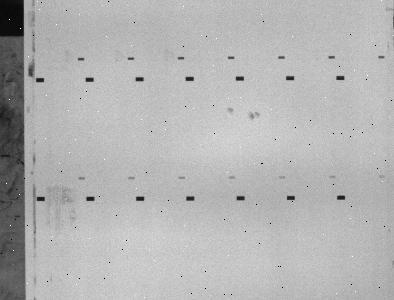incorrect qblock: (378, 174, 386, 178), (177, 56, 184, 60), (278, 55, 285, 59), (328, 55, 335, 59), (279, 175, 286, 179), (378, 55, 385, 59), (78, 176, 85, 180), (178, 176, 186, 179), (127, 57, 134, 60), (228, 56, 235, 59), (229, 176, 236, 179), (128, 176, 135, 179), (78, 58, 84, 61), (329, 176, 336, 178)
qblock: (85, 77, 94, 82), (36, 196, 45, 201), (336, 75, 345, 80), (185, 76, 194, 81), (86, 196, 95, 201), (186, 196, 195, 201), (236, 76, 244, 81), (337, 195, 345, 200), (287, 195, 295, 200), (136, 196, 144, 201), (135, 77, 144, 81), (286, 76, 295, 80), (236, 196, 245, 200), (36, 78, 44, 82)
